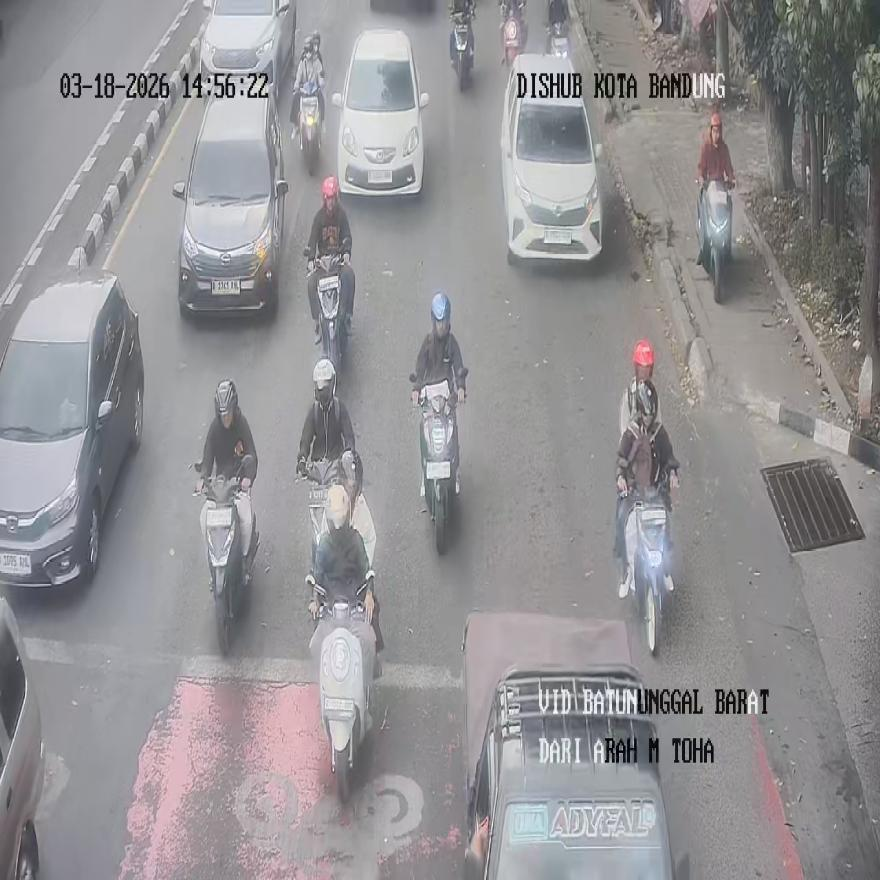Motor: (460, 611, 688, 878), (0, 272, 144, 586), (173, 94, 288, 315), (501, 54, 602, 264), (335, 27, 428, 194), (0, 598, 44, 877), (199, 0, 294, 106)
Truk: (315, 600, 375, 804), (194, 463, 256, 655), (622, 474, 675, 655), (410, 373, 462, 552), (307, 249, 351, 374), (696, 177, 734, 303), (296, 78, 323, 174), (449, 9, 474, 89), (500, 1, 527, 67), (544, 0, 569, 57)
